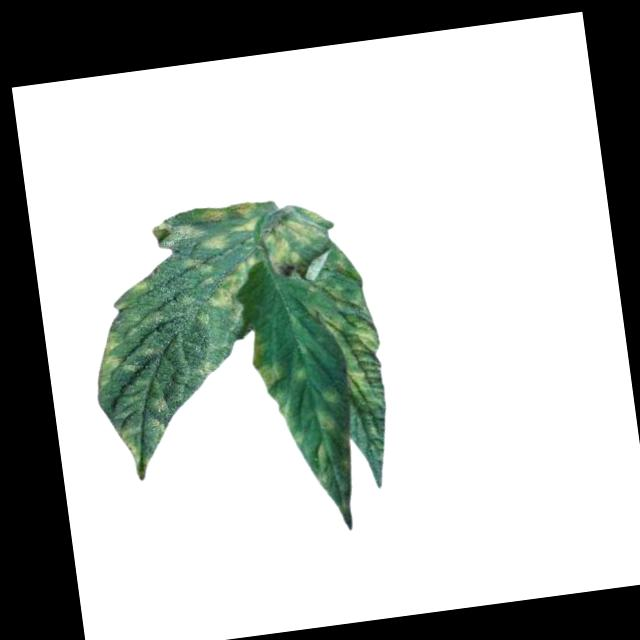Leaf_Mold: (265, 193, 390, 420), (150, 199, 270, 335), (82, 276, 164, 389), (247, 328, 286, 396), (316, 410, 346, 432)
